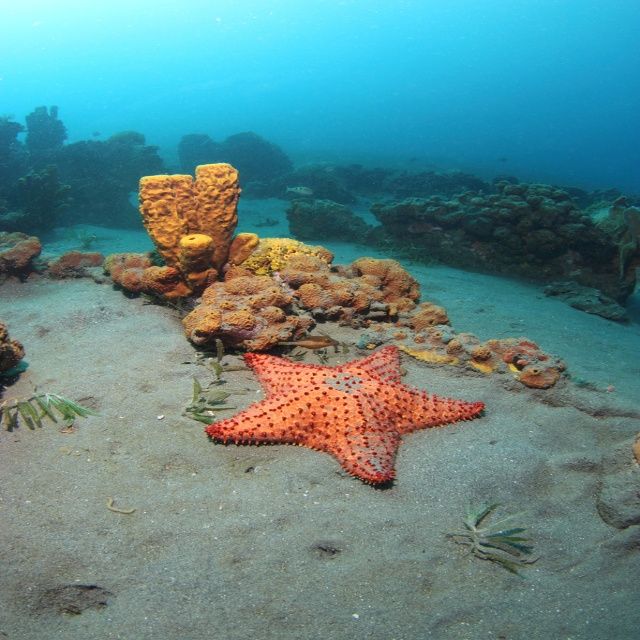Starfish: (203, 344, 486, 485)
